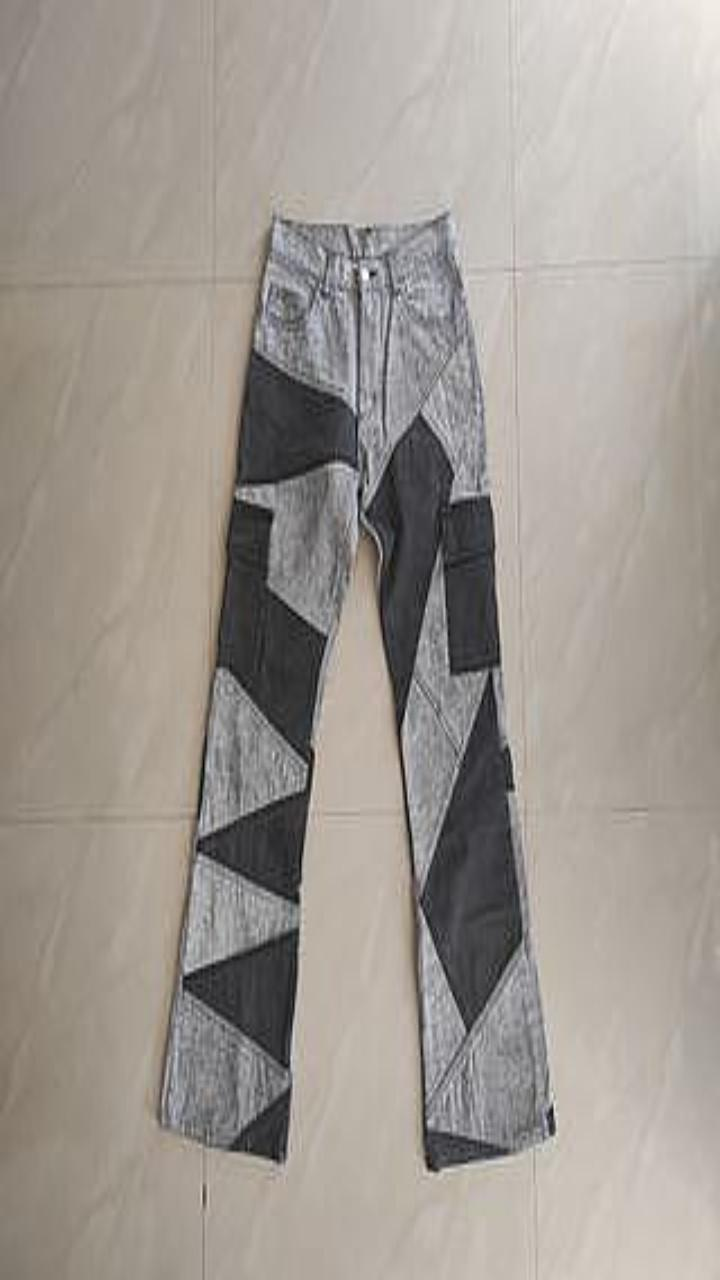Jeans: (159, 210, 554, 1169)
